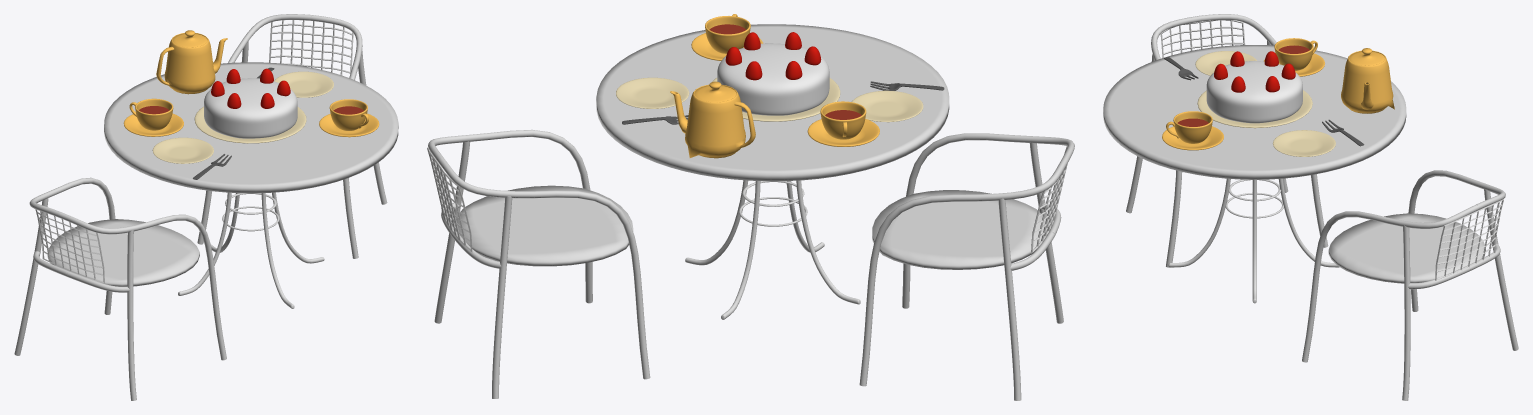
Rendered from TeatimeSet.fbx.
3 views of the same model, side by side, from view 1: azimuth 30°, elevation 25°; view 2: azimuth 150°, elevation 25°; view 3: azimuth 270°, elevation 25° (orthographic). The views are drawn at different scales.
Parts seen in each view (by area): view 1: Table_legs, Chair, Cake, Cup 02, Dish, Teapot, Strawberry; view 2: Chair, Table_legs, Cake, Teapot, Dish, Cup 02, Strawberry, Fork; view 3: Table_legs, Chair, Cake, Cup 02, Dish, Teapot, Strawberry, Fork.
Boxes of the visible parts, x1,y1,x2,y2 form: Table_legs: (104, 62, 398, 308); Chair: (14, 14, 387, 400); Cake: (204, 78, 297, 138); Cup 02: (123, 98, 379, 137); Dish: (152, 71, 333, 163); Teapot: (156, 30, 227, 94); Strawberry: (211, 68, 290, 108); Chair: (427, 129, 1074, 400); Table_legs: (596, 24, 949, 319); Cake: (717, 43, 829, 115); Teapot: (670, 81, 755, 158); Dish: (616, 77, 923, 122); Cup 02: (691, 14, 879, 146); Strawberry: (725, 32, 821, 80); Fork: (622, 81, 944, 124); Table_legs: (1103, 45, 1406, 303); Chair: (1126, 14, 1518, 400); Cake: (1206, 60, 1302, 123); Cup 02: (1162, 38, 1324, 150); Dish: (1195, 51, 1335, 156); Teapot: (1341, 48, 1394, 113); Strawberry: (1214, 51, 1295, 92); Fork: (1164, 57, 1364, 146).
Size of the model in its own units: 166 by 88.25 by 133.
